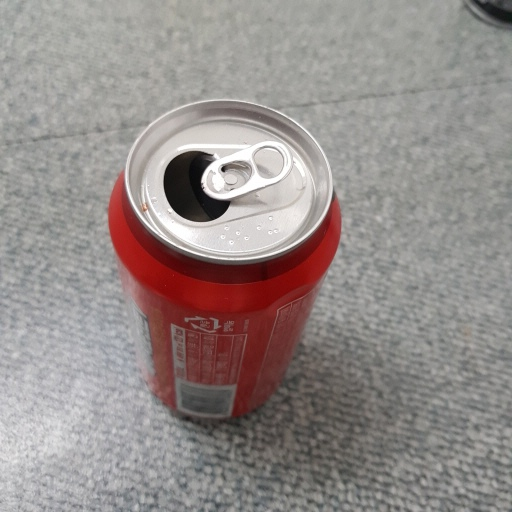Metal_0: (104, 99, 343, 421)
